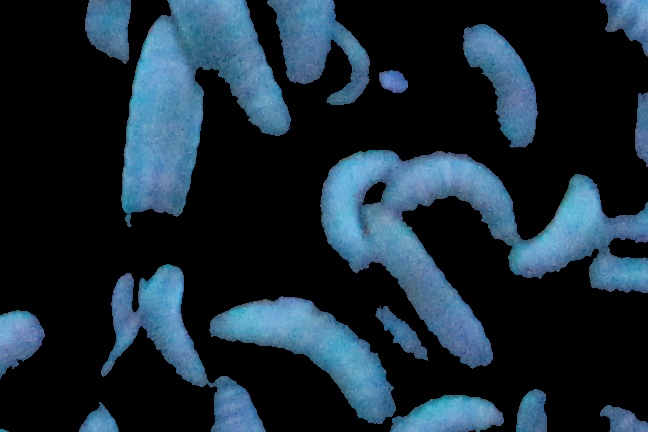larvae: (212, 300, 391, 416), (119, 5, 204, 242), (370, 206, 499, 360), (507, 167, 605, 294), (382, 150, 521, 238), (312, 130, 389, 283), (203, 1, 286, 137), (135, 265, 214, 396), (459, 23, 536, 155), (376, 376, 507, 432), (74, 1, 145, 73), (274, 1, 337, 78)
